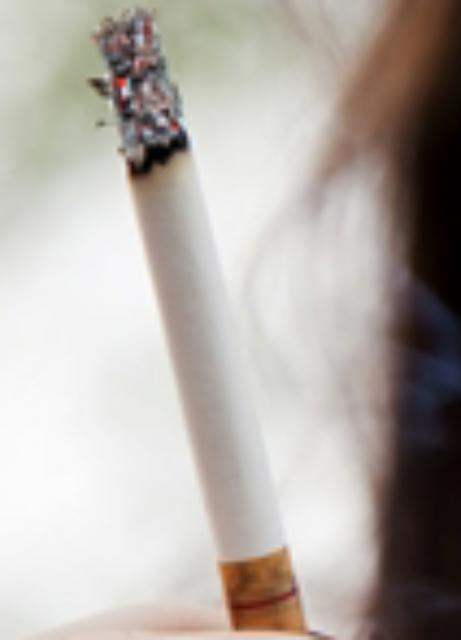Cigarette: (98, 12, 308, 630)
